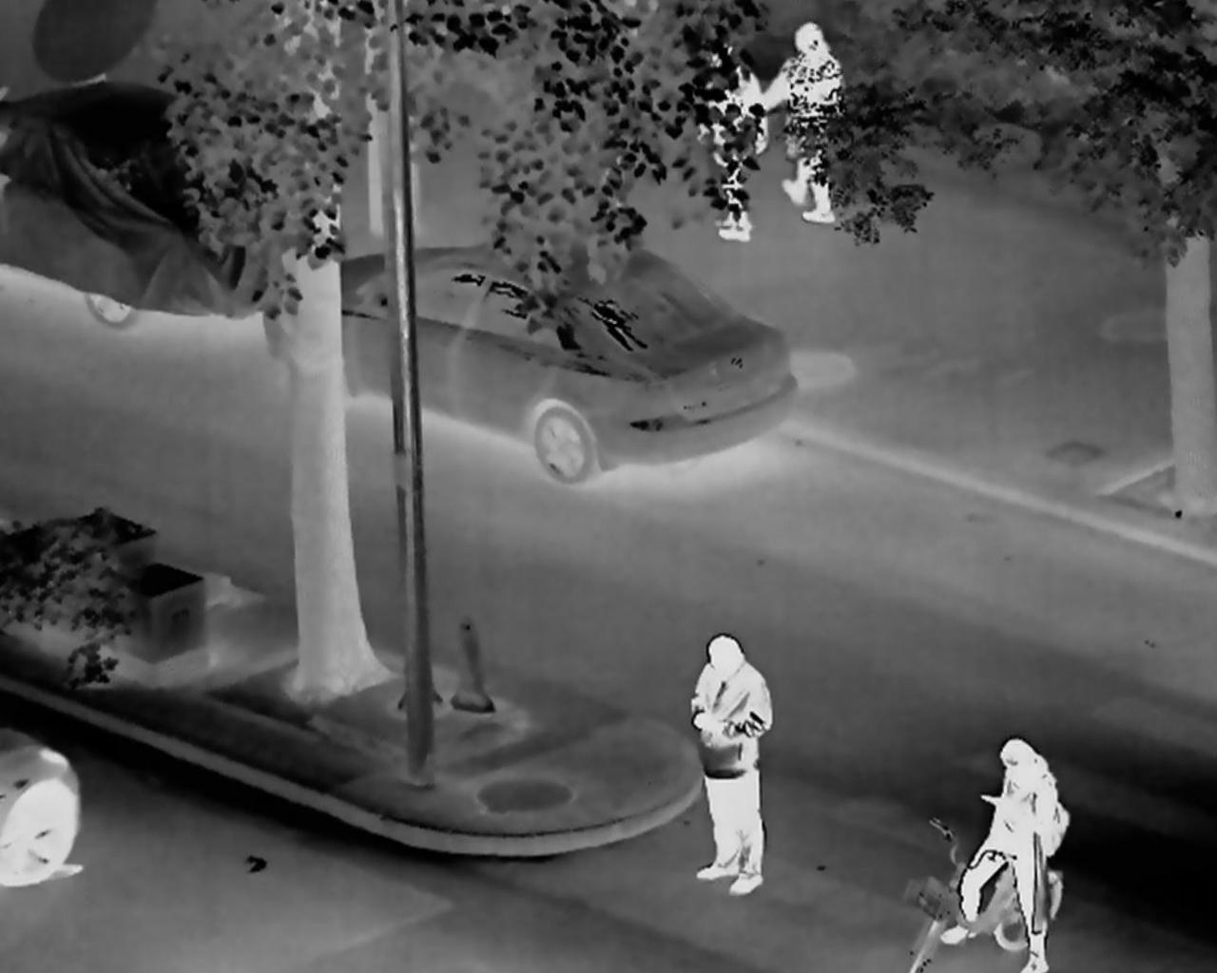person: (944, 736, 1065, 973), (686, 636, 774, 897), (686, 32, 769, 247), (761, 24, 843, 224)
